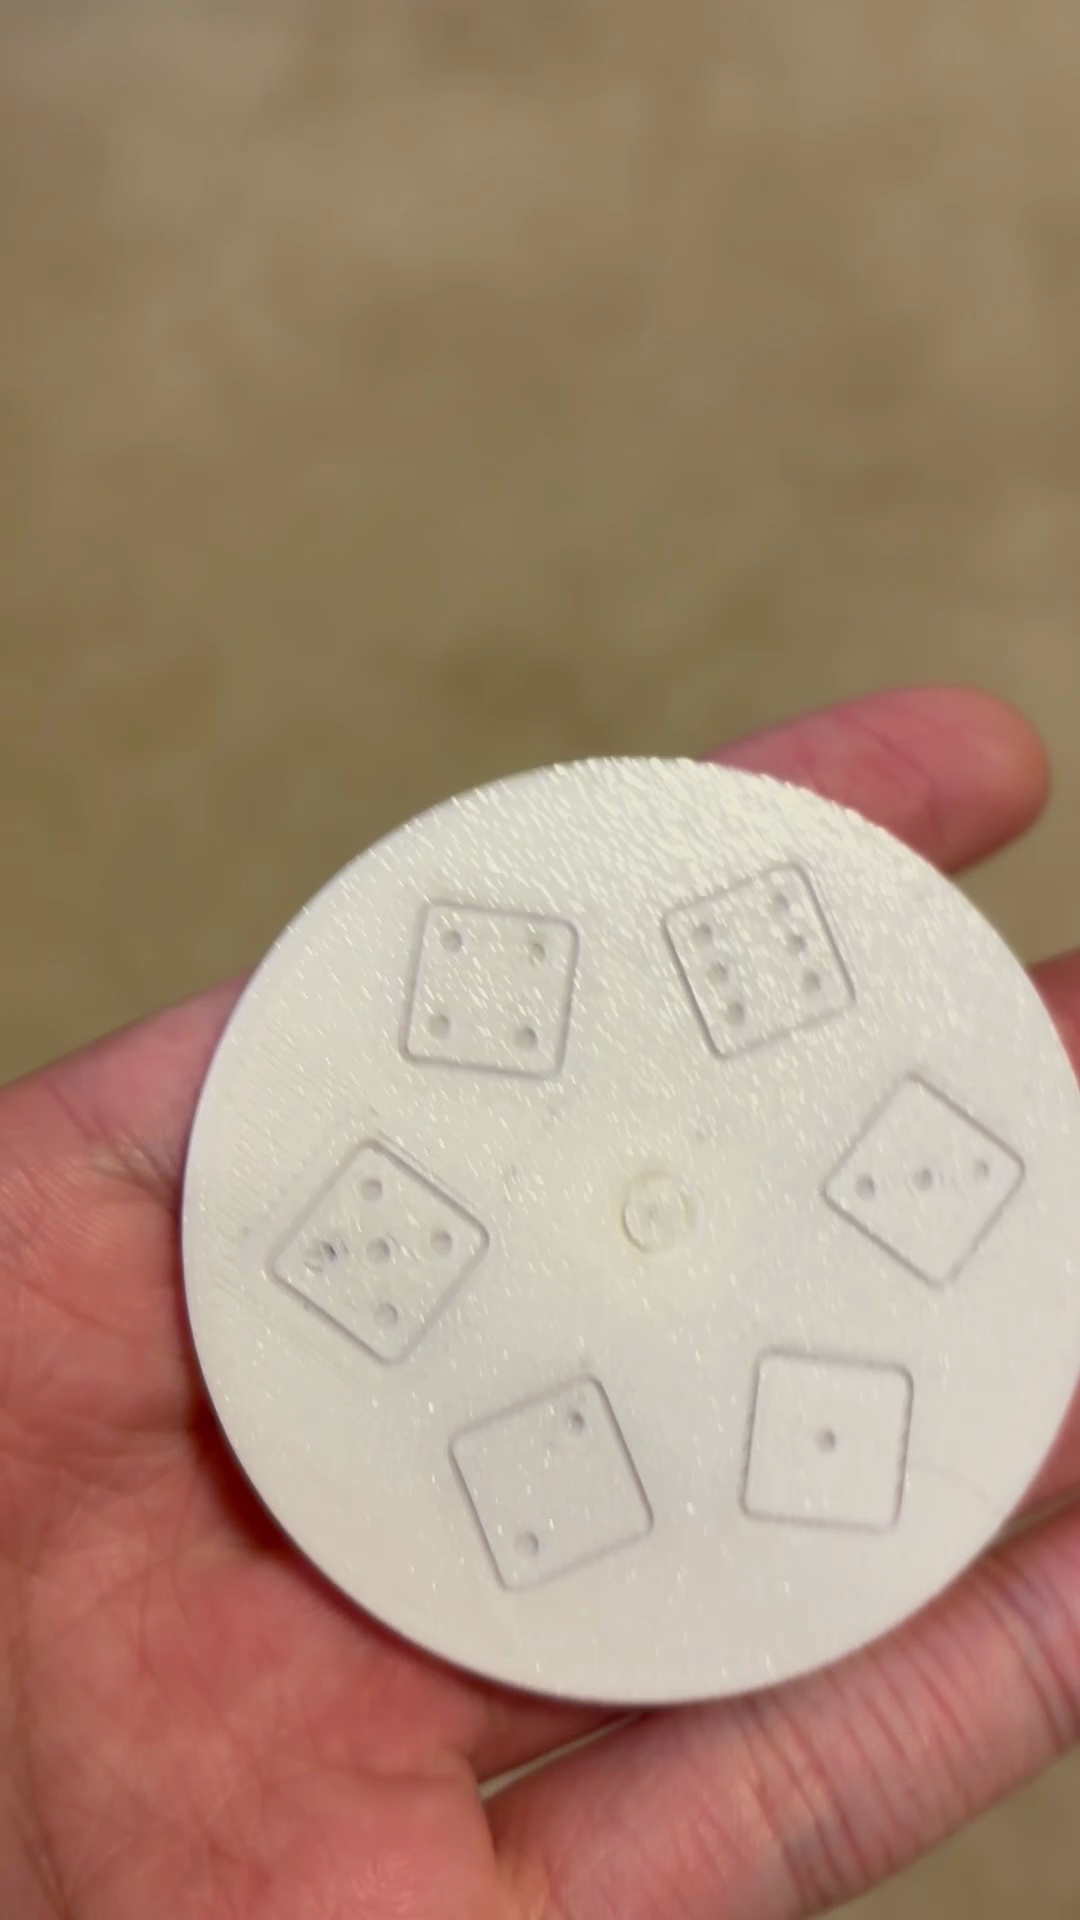Part1: (182, 760, 1079, 1705)
